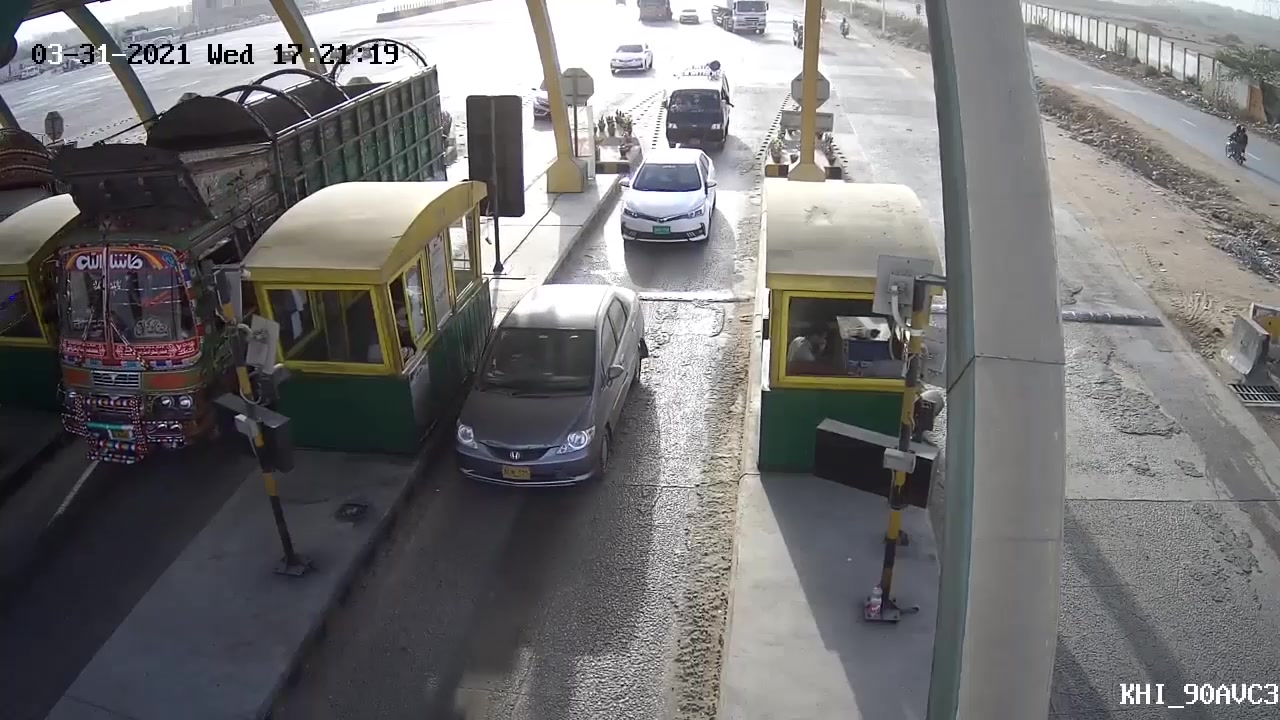F1: (438, 279, 646, 495)
